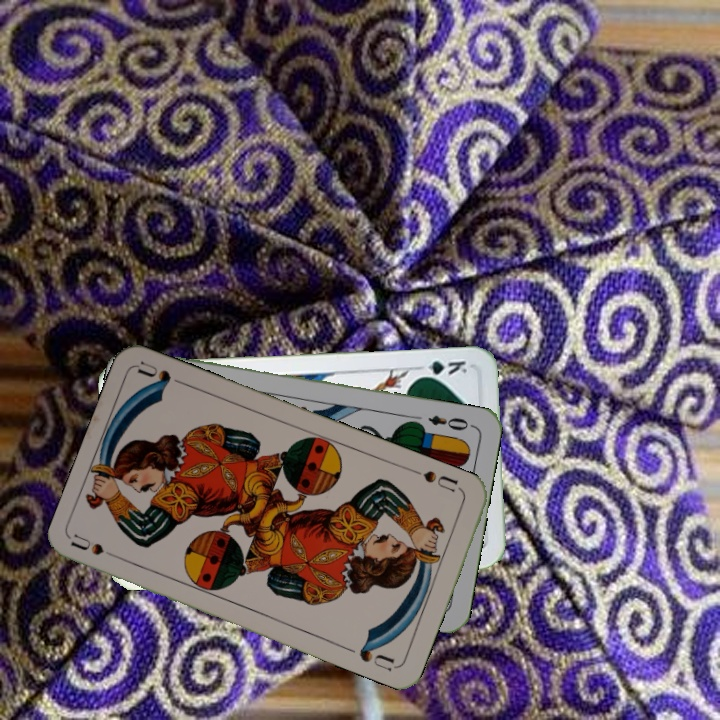EO: (424, 411, 476, 433)
GK: (412, 357, 470, 380)
SU: (69, 531, 127, 564), (408, 465, 465, 495)
